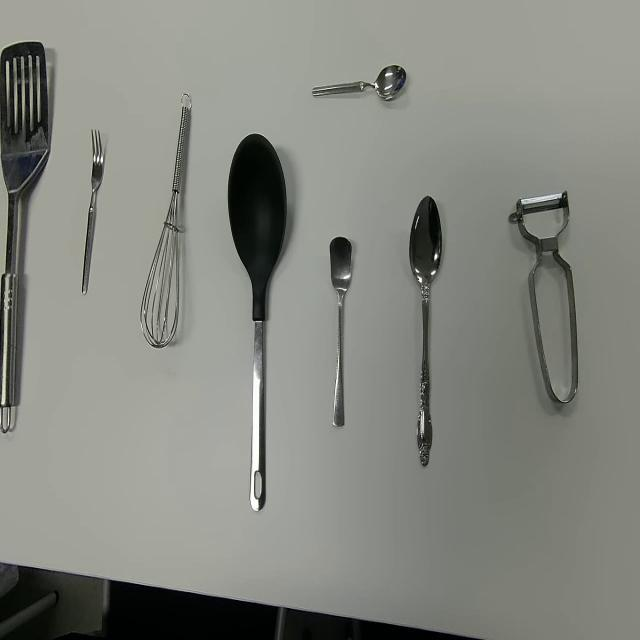Desert-Spoon: (408, 194, 443, 468)
Dinner-Fork: (81, 126, 105, 296)
Peeler: (509, 189, 578, 405)
Serving-Spoon: (226, 132, 288, 514), (0, 39, 49, 434)
Tea-Spoon: (329, 235, 352, 429), (310, 62, 406, 101)
Whisk: (140, 91, 193, 350)
